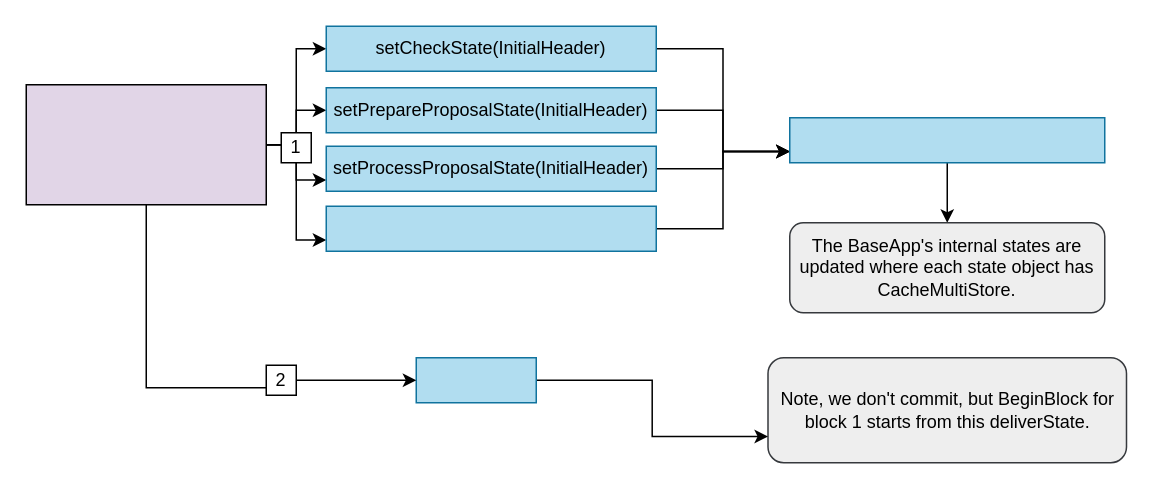
This 1154x489 diagram has some shape labels left out. The shapes that lost their labels are listed below. From the top down, each one's centre as x and y in pixels, then its label:
At pixel 145 144: "InitChain".
At pixel 946 139: "&state{cms.CacheMultiStore(), ...}".
At pixel 490 228: "setDeliverState(InitialHeader)".
At pixel 475 379: "initiChainer()".
